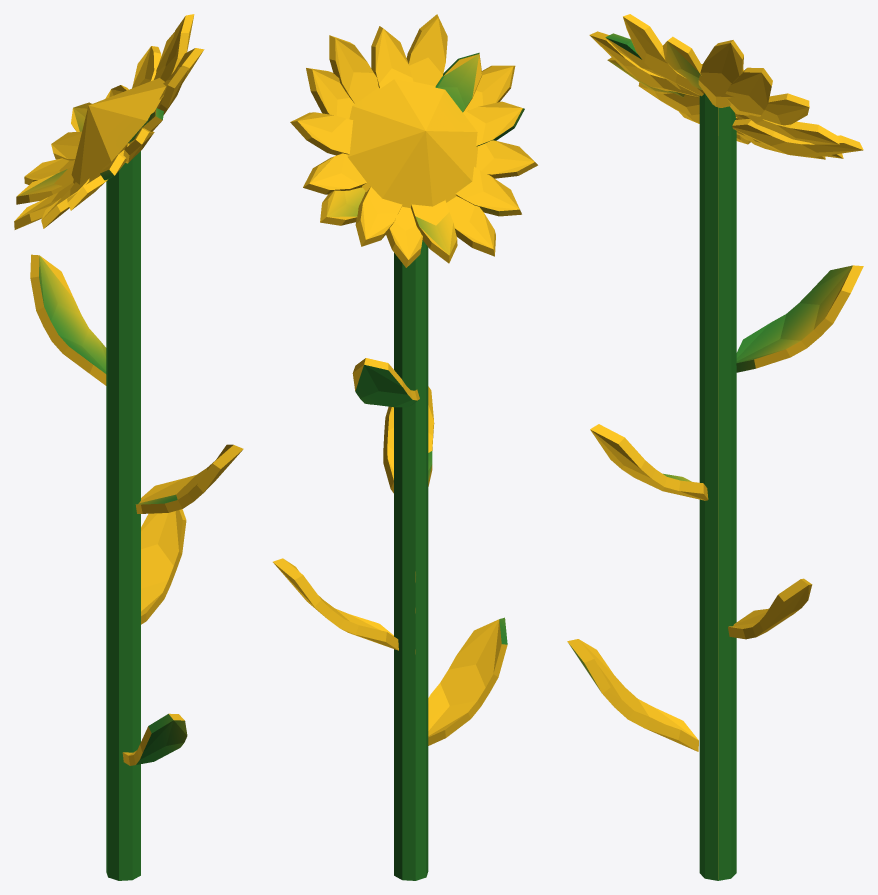
File: sunflower.obj
3 views of the same model, side by side, from view 1: azimuth 30°, elevation 25°; view 2: azimuth 150°, elevation 25°; view 3: azimuth 270°, elevation 25° (orthographic). The views are drawn at different scales.
Parts seen in each view (by area): view 1: Sunflower_Cone.002; view 2: Sunflower_Cone.002; view 3: Sunflower_Cone.002.
Boxes of the visible parts, bbox=[...] form: Sunflower_Cone.002: bbox=[14, 14, 243, 880]; Sunflower_Cone.002: bbox=[273, 14, 537, 880]; Sunflower_Cone.002: bbox=[567, 14, 863, 880].
Size of the model in its own units: 0.469 by 1.93 by 0.598.
